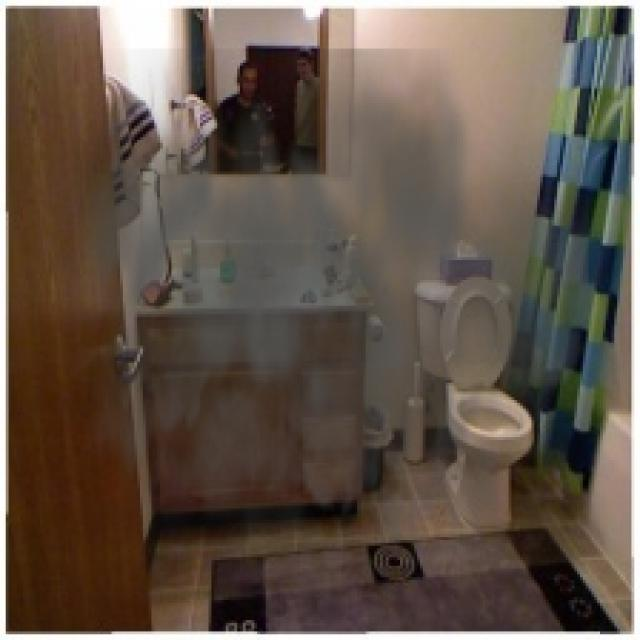smoke: (40, 49, 589, 608)
